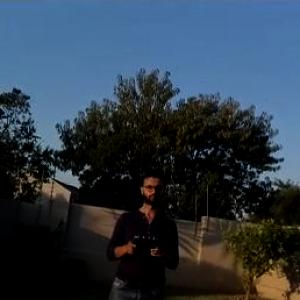follow: (92, 158, 187, 299)
